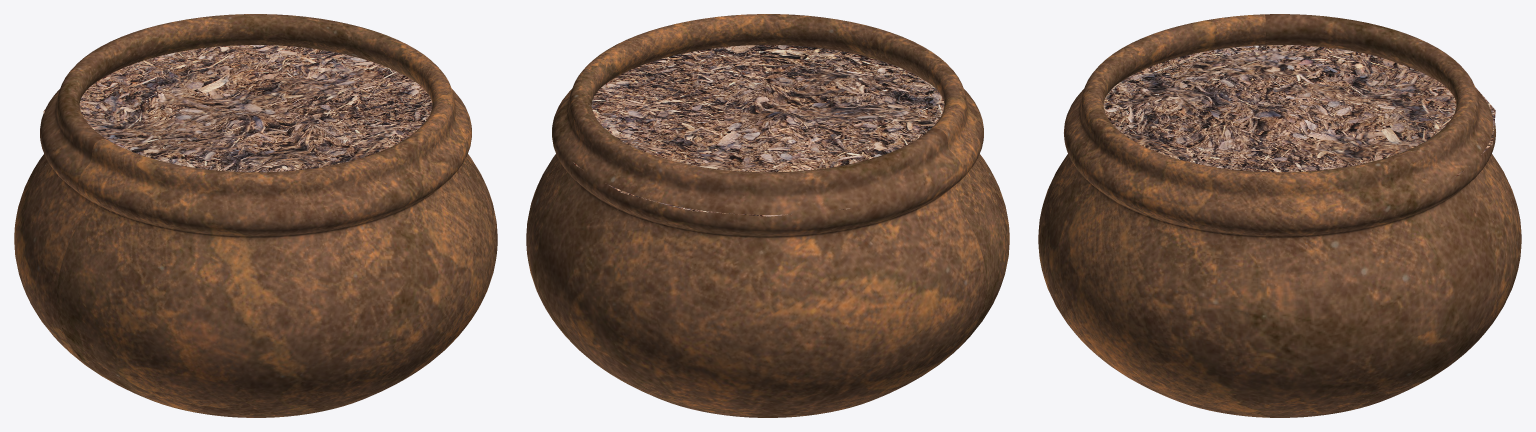
Rendered from PotWithPlant.fbx.
3 views of the same model, side by side, from view 1: azimuth 30°, elevation 25°; view 2: azimuth 150°, elevation 25°; view 3: azimuth 270°, elevation 25° (orthographic).
Parts seen in each view (by area): view 1: pot4, Cylinder; view 2: pot4, Cylinder; view 3: pot4, Cylinder.
Boxes of the visible parts, bbox=[...] form: pot4: bbox=[14, 14, 497, 417]; Cylinder: bbox=[43, 45, 432, 172]; pot4: bbox=[526, 14, 1009, 417]; Cylinder: bbox=[573, 45, 944, 216]; pot4: bbox=[1038, 14, 1521, 417]; Cylinder: bbox=[1103, 45, 1495, 176].
Size of the model in its own units: 46.42 by 27.97 by 46.42.
Materials: 2 (2 with a texture image).
